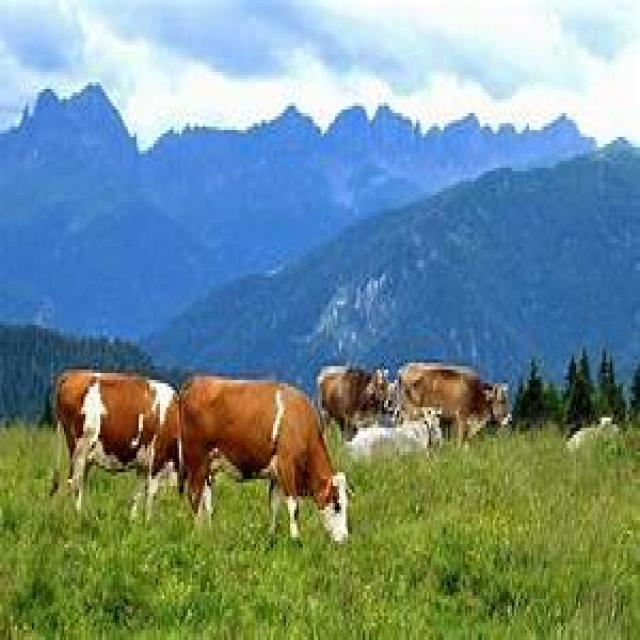cow: (155, 377, 345, 540), (50, 373, 175, 510), (399, 365, 508, 436), (318, 367, 384, 434)
